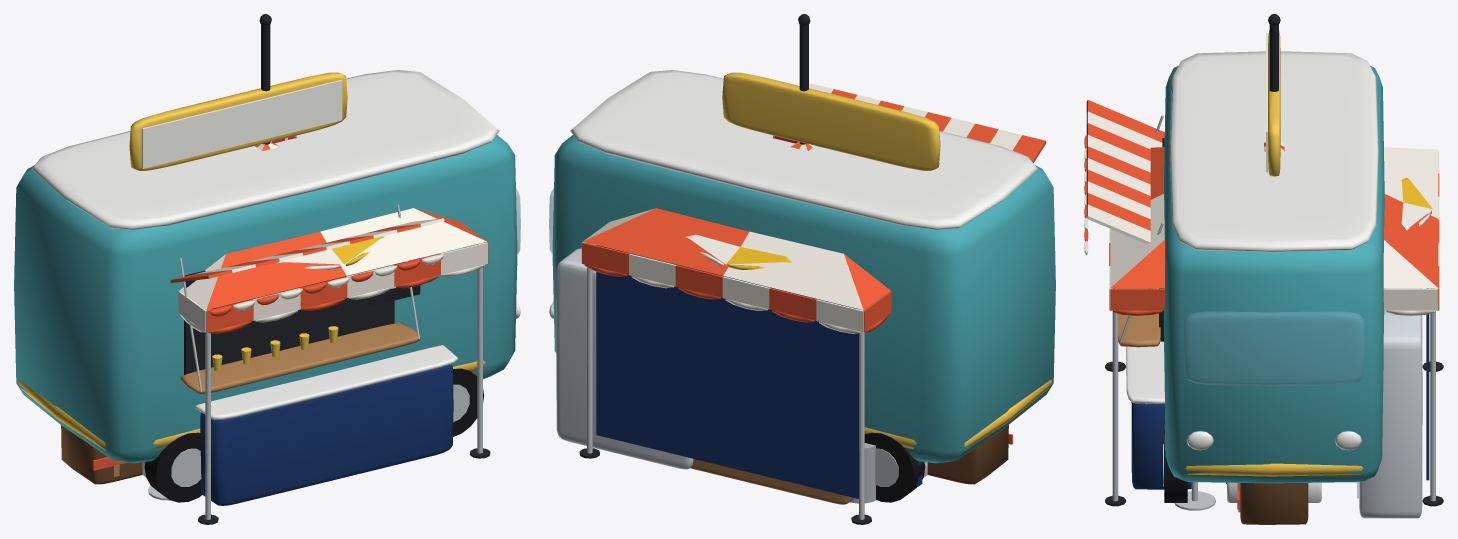
The model's file is infield_props.glb.
3 renders of one model, left to right at view 1: azimuth 30°, elevation 25°; view 2: azimuth 150°, elevation 25°; view 3: azimuth 270°, elevation 25°, orthographic.
Parts seen in each view (by area): view 1: food_truck, stall_tent, bar_counter, parasol, light_pole; view 2: food_truck, stall_tent, bar_counter, parasol, light_pole; view 3: food_truck, stall_tent, bar_counter, parasol, light_pole, podium.
Boxes of the visible parts, left/top/right/bottom form: food_truck: left=14, top=70, right=520, bottom=502; stall_tent: left=178, top=141, right=490, bottom=524; bar_counter: left=61, top=425, right=170, bottom=500; parasol: left=278, top=236, right=384, bottom=269; light_pole: left=259, top=14, right=271, bottom=144; food_truck: left=549, top=70, right=1055, bottom=502; stall_tent: left=579, top=141, right=891, bottom=524; bar_counter: left=556, top=248, right=1012, bottom=503; parasol: left=685, top=234, right=791, bottom=269; light_pole: left=798, top=14, right=810, bottom=144; food_truck: left=1084, top=30, right=1384, bottom=502; stall_tent: left=1105, top=142, right=1443, bottom=506; bar_counter: left=1174, top=288, right=1422, bottom=524; parasol: left=1401, top=178, right=1432, bottom=230; light_pole: left=1268, top=14, right=1280, bottom=91; podium: left=1226, top=482, right=1321, bottom=502.
Size of the model in its own units: 4.67 by 4.49 by 3.39.
